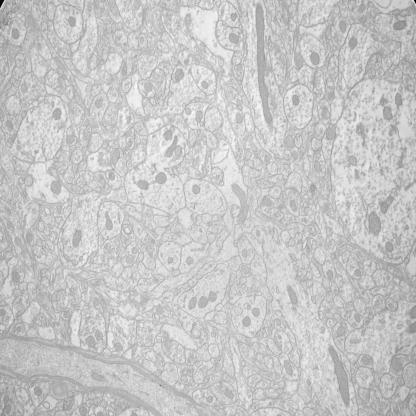mitochondria: (254, 3, 274, 130), (328, 344, 351, 409), (231, 183, 249, 224), (285, 281, 299, 308), (368, 210, 382, 235), (163, 135, 177, 156), (391, 356, 404, 375), (90, 372, 106, 384), (72, 230, 82, 249), (50, 180, 62, 195), (104, 212, 113, 231), (382, 104, 392, 121), (309, 51, 320, 66), (228, 31, 240, 44), (392, 20, 406, 31), (112, 149, 121, 166), (284, 359, 293, 376), (174, 67, 184, 82), (197, 296, 209, 308), (155, 172, 167, 184), (136, 180, 150, 190), (194, 110, 204, 124), (285, 134, 294, 149), (262, 195, 272, 208), (384, 240, 394, 253), (188, 296, 197, 310), (394, 92, 403, 106), (86, 336, 96, 348), (53, 107, 62, 120), (348, 37, 357, 50), (241, 316, 252, 326), (348, 155, 358, 166), (78, 405, 88, 416), (107, 170, 116, 182), (163, 129, 172, 141), (326, 128, 335, 140), (321, 106, 330, 118), (235, 112, 244, 124), (290, 200, 298, 213), (338, 20, 346, 33), (143, 82, 153, 92), (11, 28, 20, 39), (25, 232, 34, 243), (94, 330, 103, 341), (208, 291, 217, 302), (337, 326, 346, 337), (12, 271, 20, 283), (291, 150, 299, 162), (380, 202, 388, 214), (313, 160, 321, 172), (224, 389, 233, 399), (251, 307, 260, 317), (241, 264, 250, 274), (192, 184, 201, 194), (200, 80, 209, 90), (68, 16, 76, 27), (20, 83, 28, 94), (14, 236, 22, 247), (359, 14, 367, 25), (326, 269, 334, 280), (121, 62, 127, 76), (292, 94, 299, 106), (126, 254, 135, 263), (114, 343, 123, 352), (34, 386, 42, 396), (94, 98, 102, 108), (206, 394, 214, 404), (230, 11, 238, 21), (176, 146, 183, 157), (186, 256, 194, 265), (354, 268, 362, 277), (361, 356, 369, 365), (3, 395, 10, 405), (241, 248, 248, 258), (359, 4, 366, 14), (354, 313, 361, 323), (63, 310, 71, 318), (66, 136, 74, 144), (131, 246, 138, 254), (156, 307, 164, 314), (185, 107, 192, 115), (5, 405, 11, 414), (264, 154, 270, 163), (167, 257, 174, 263)
